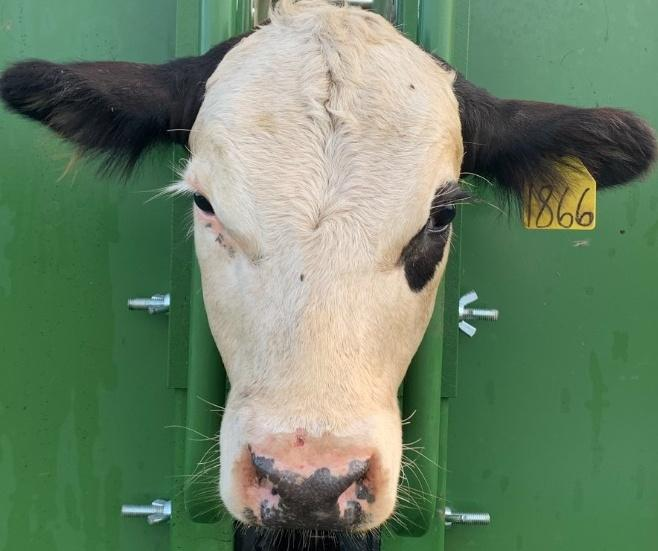muzzles: (209, 415, 405, 545)
